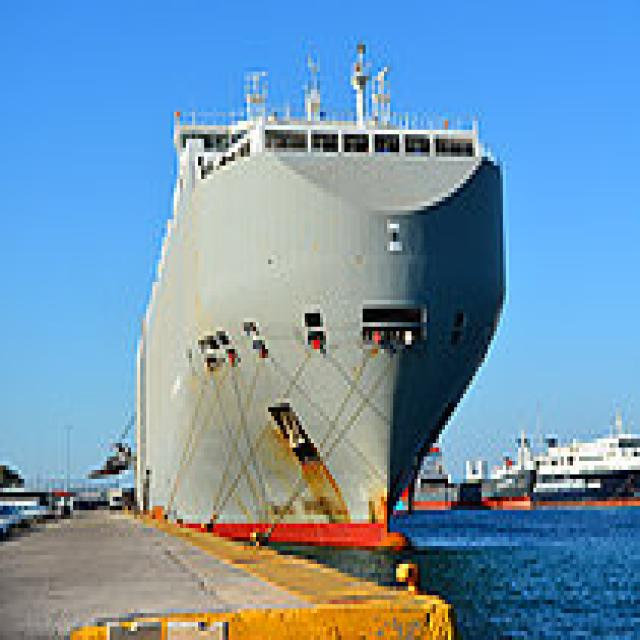Carrier: (128, 31, 506, 555)
